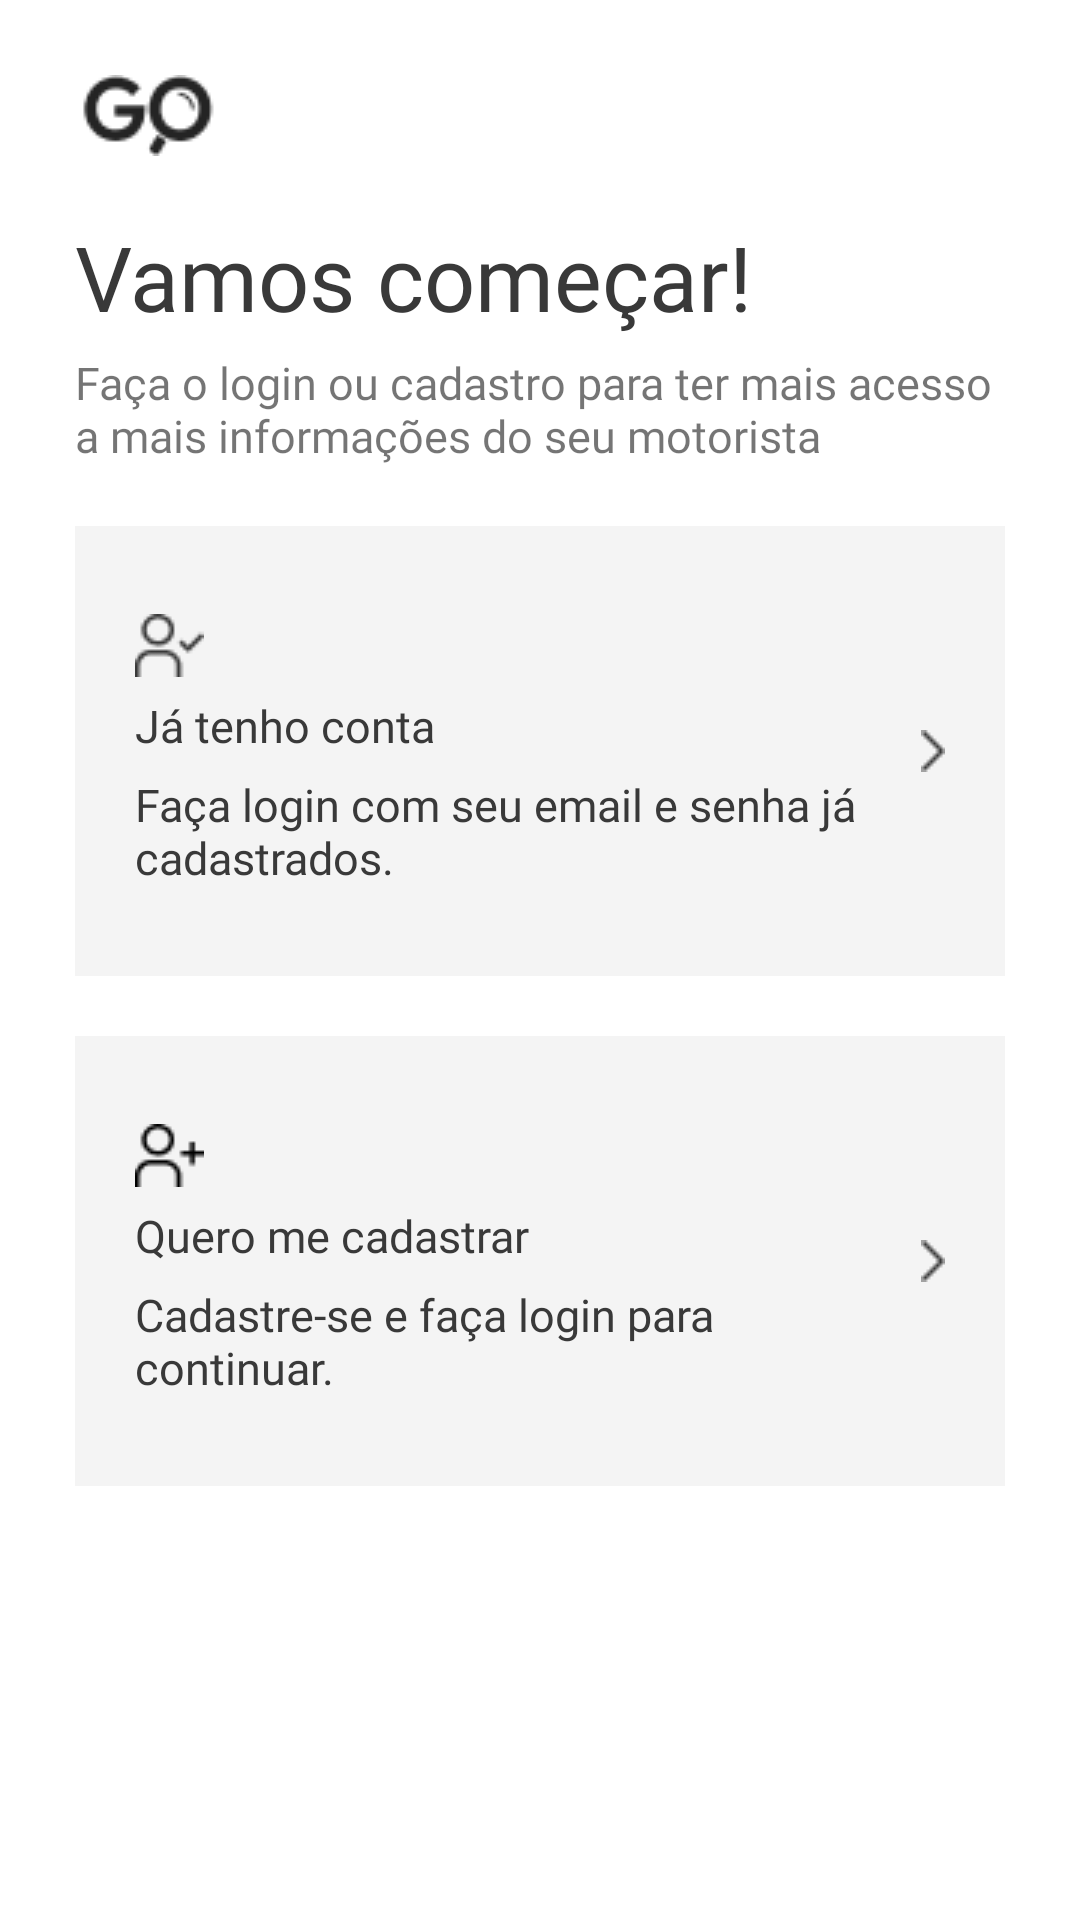

Point at icon controls on the screen. Image size 1080×1920, points as (x,y).
arrow right: (933,751), (933,1261)
